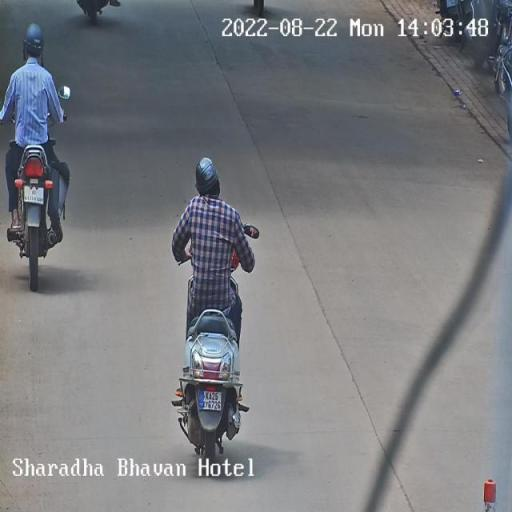using mobile: (194, 190, 204, 197)
